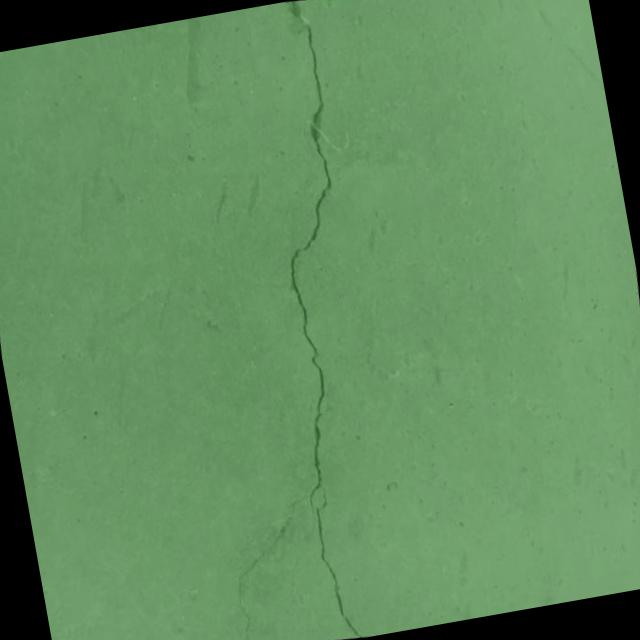crack: (134, 0, 425, 640)
